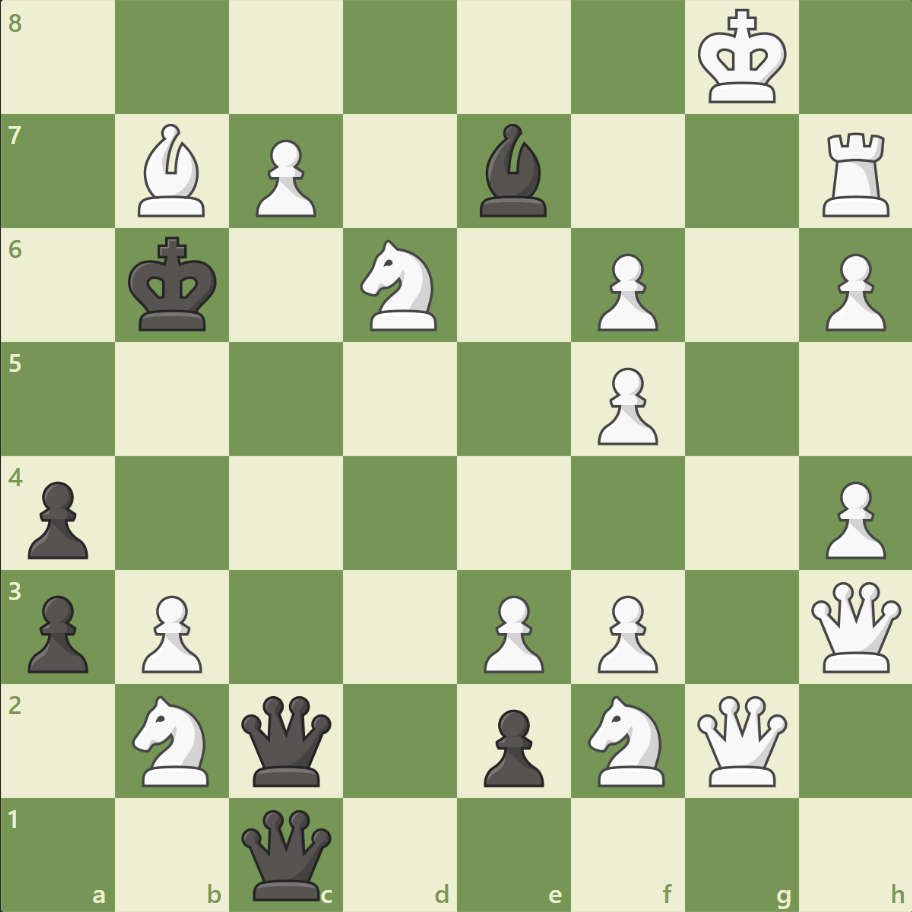B: (131, 120, 215, 222)
K: (692, 4, 792, 112)
N: (351, 234, 449, 337), (124, 688, 222, 791), (579, 688, 676, 791)
P: (247, 132, 322, 223), (133, 586, 208, 677), (474, 586, 549, 677), (588, 246, 662, 337), (815, 246, 889, 337), (588, 359, 662, 450), (815, 473, 889, 564), (588, 586, 662, 677)
Q: (805, 576, 904, 676), (691, 690, 790, 789)
R: (814, 125, 897, 222)
b: (471, 120, 555, 222)
k: (124, 231, 224, 339)
p: (20, 473, 95, 564), (20, 586, 95, 677), (474, 700, 549, 791)
q: (237, 690, 336, 789), (237, 804, 336, 903)
